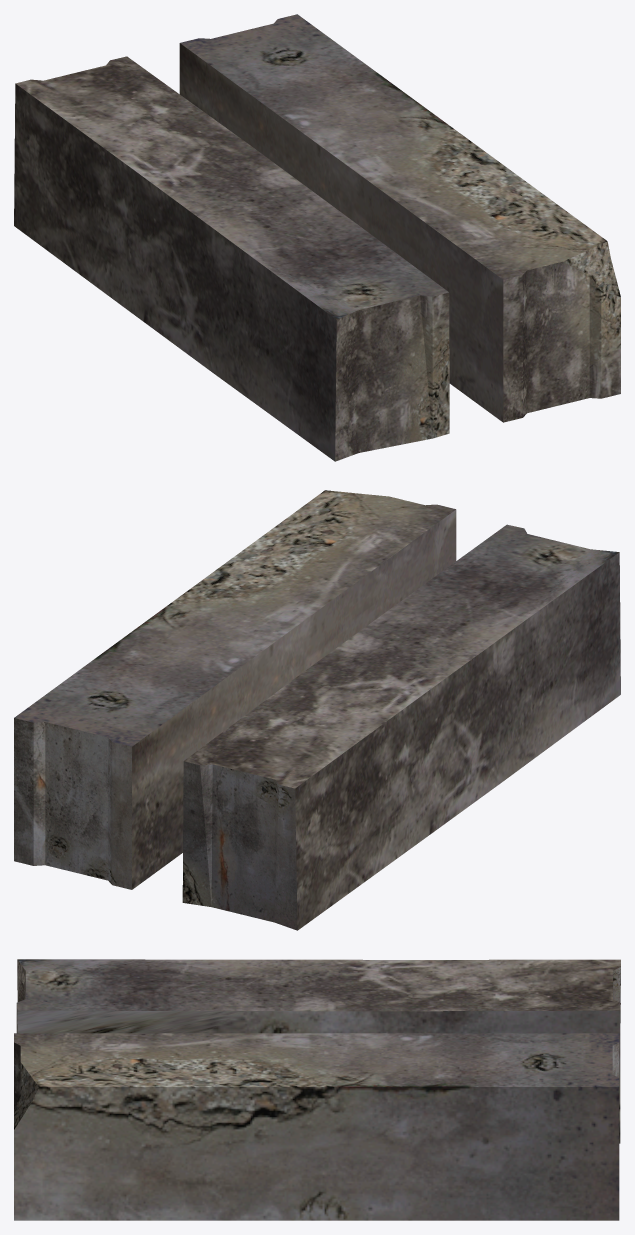
The model's file is blocks2.FBX.
3 views of the same model, one above another, from view 1: azimuth 30°, elevation 25°; view 2: azimuth 150°, elevation 25°; view 3: azimuth 270°, elevation 25° (orthographic). The views are drawn at different scales.
Visible parts, largest first — view 1: block.1, block; view 2: block.1, block; view 3: block, block.1.
Boxes of the visible parts, left/top/right/bottom form: block.1: left=14, top=56, right=449, bottom=461; block: left=179, top=14, right=620, bottom=422; block.1: left=182, top=524, right=620, bottom=930; block: left=14, top=490, right=456, bottom=889; block: left=14, top=1033, right=619, bottom=1220; block.1: left=16, top=959, right=620, bottom=1143.
Size of the model in its own units: 47.57 by 22.83 by 93.96.
